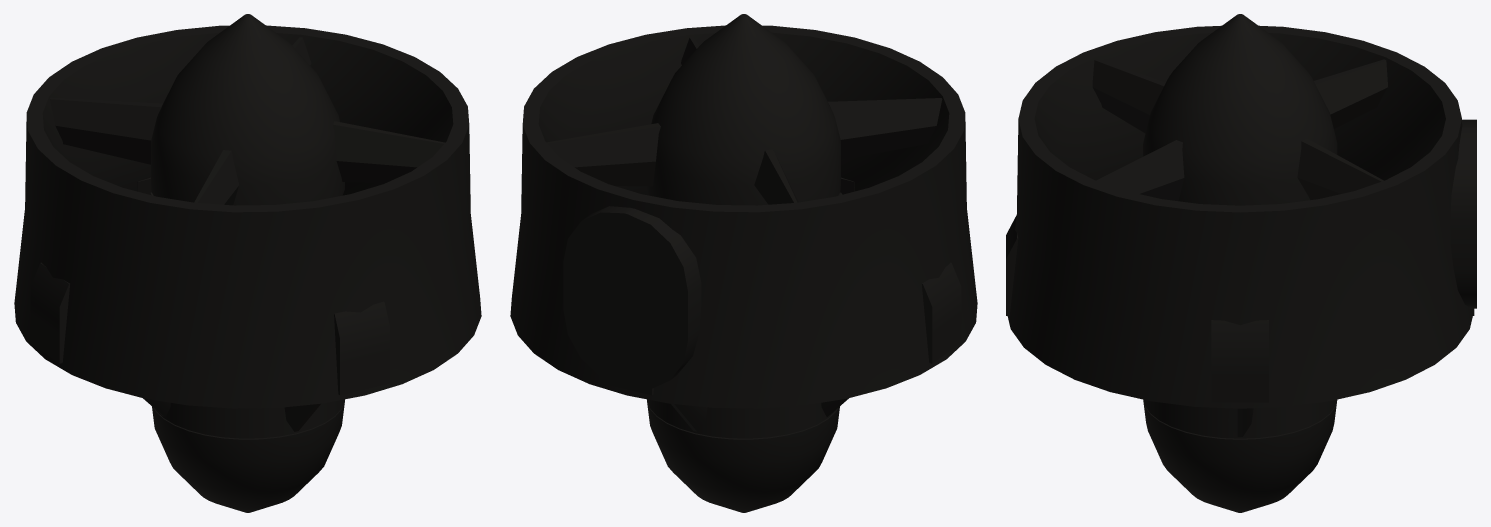
Rendered from thruster.visual.glb.
3 views of the same model, side by side, from view 1: azimuth 30°, elevation 25°; view 2: azimuth 150°, elevation 25°; view 3: azimuth 270°, elevation 25° (orthographic).
Parts seen in each view (by area): view 1: Thruster.001; view 2: Thruster.001; view 3: Thruster.001.
Boxes of the visible parts, x1,y1,x2,y2 form: Thruster.001: [14, 14, 481, 512]; Thruster.001: [510, 14, 977, 512]; Thruster.001: [1006, 14, 1476, 512].
Size of the model in its own units: 0.0966 by 0.1128 by 0.0971.
1 material, 1 textured.
